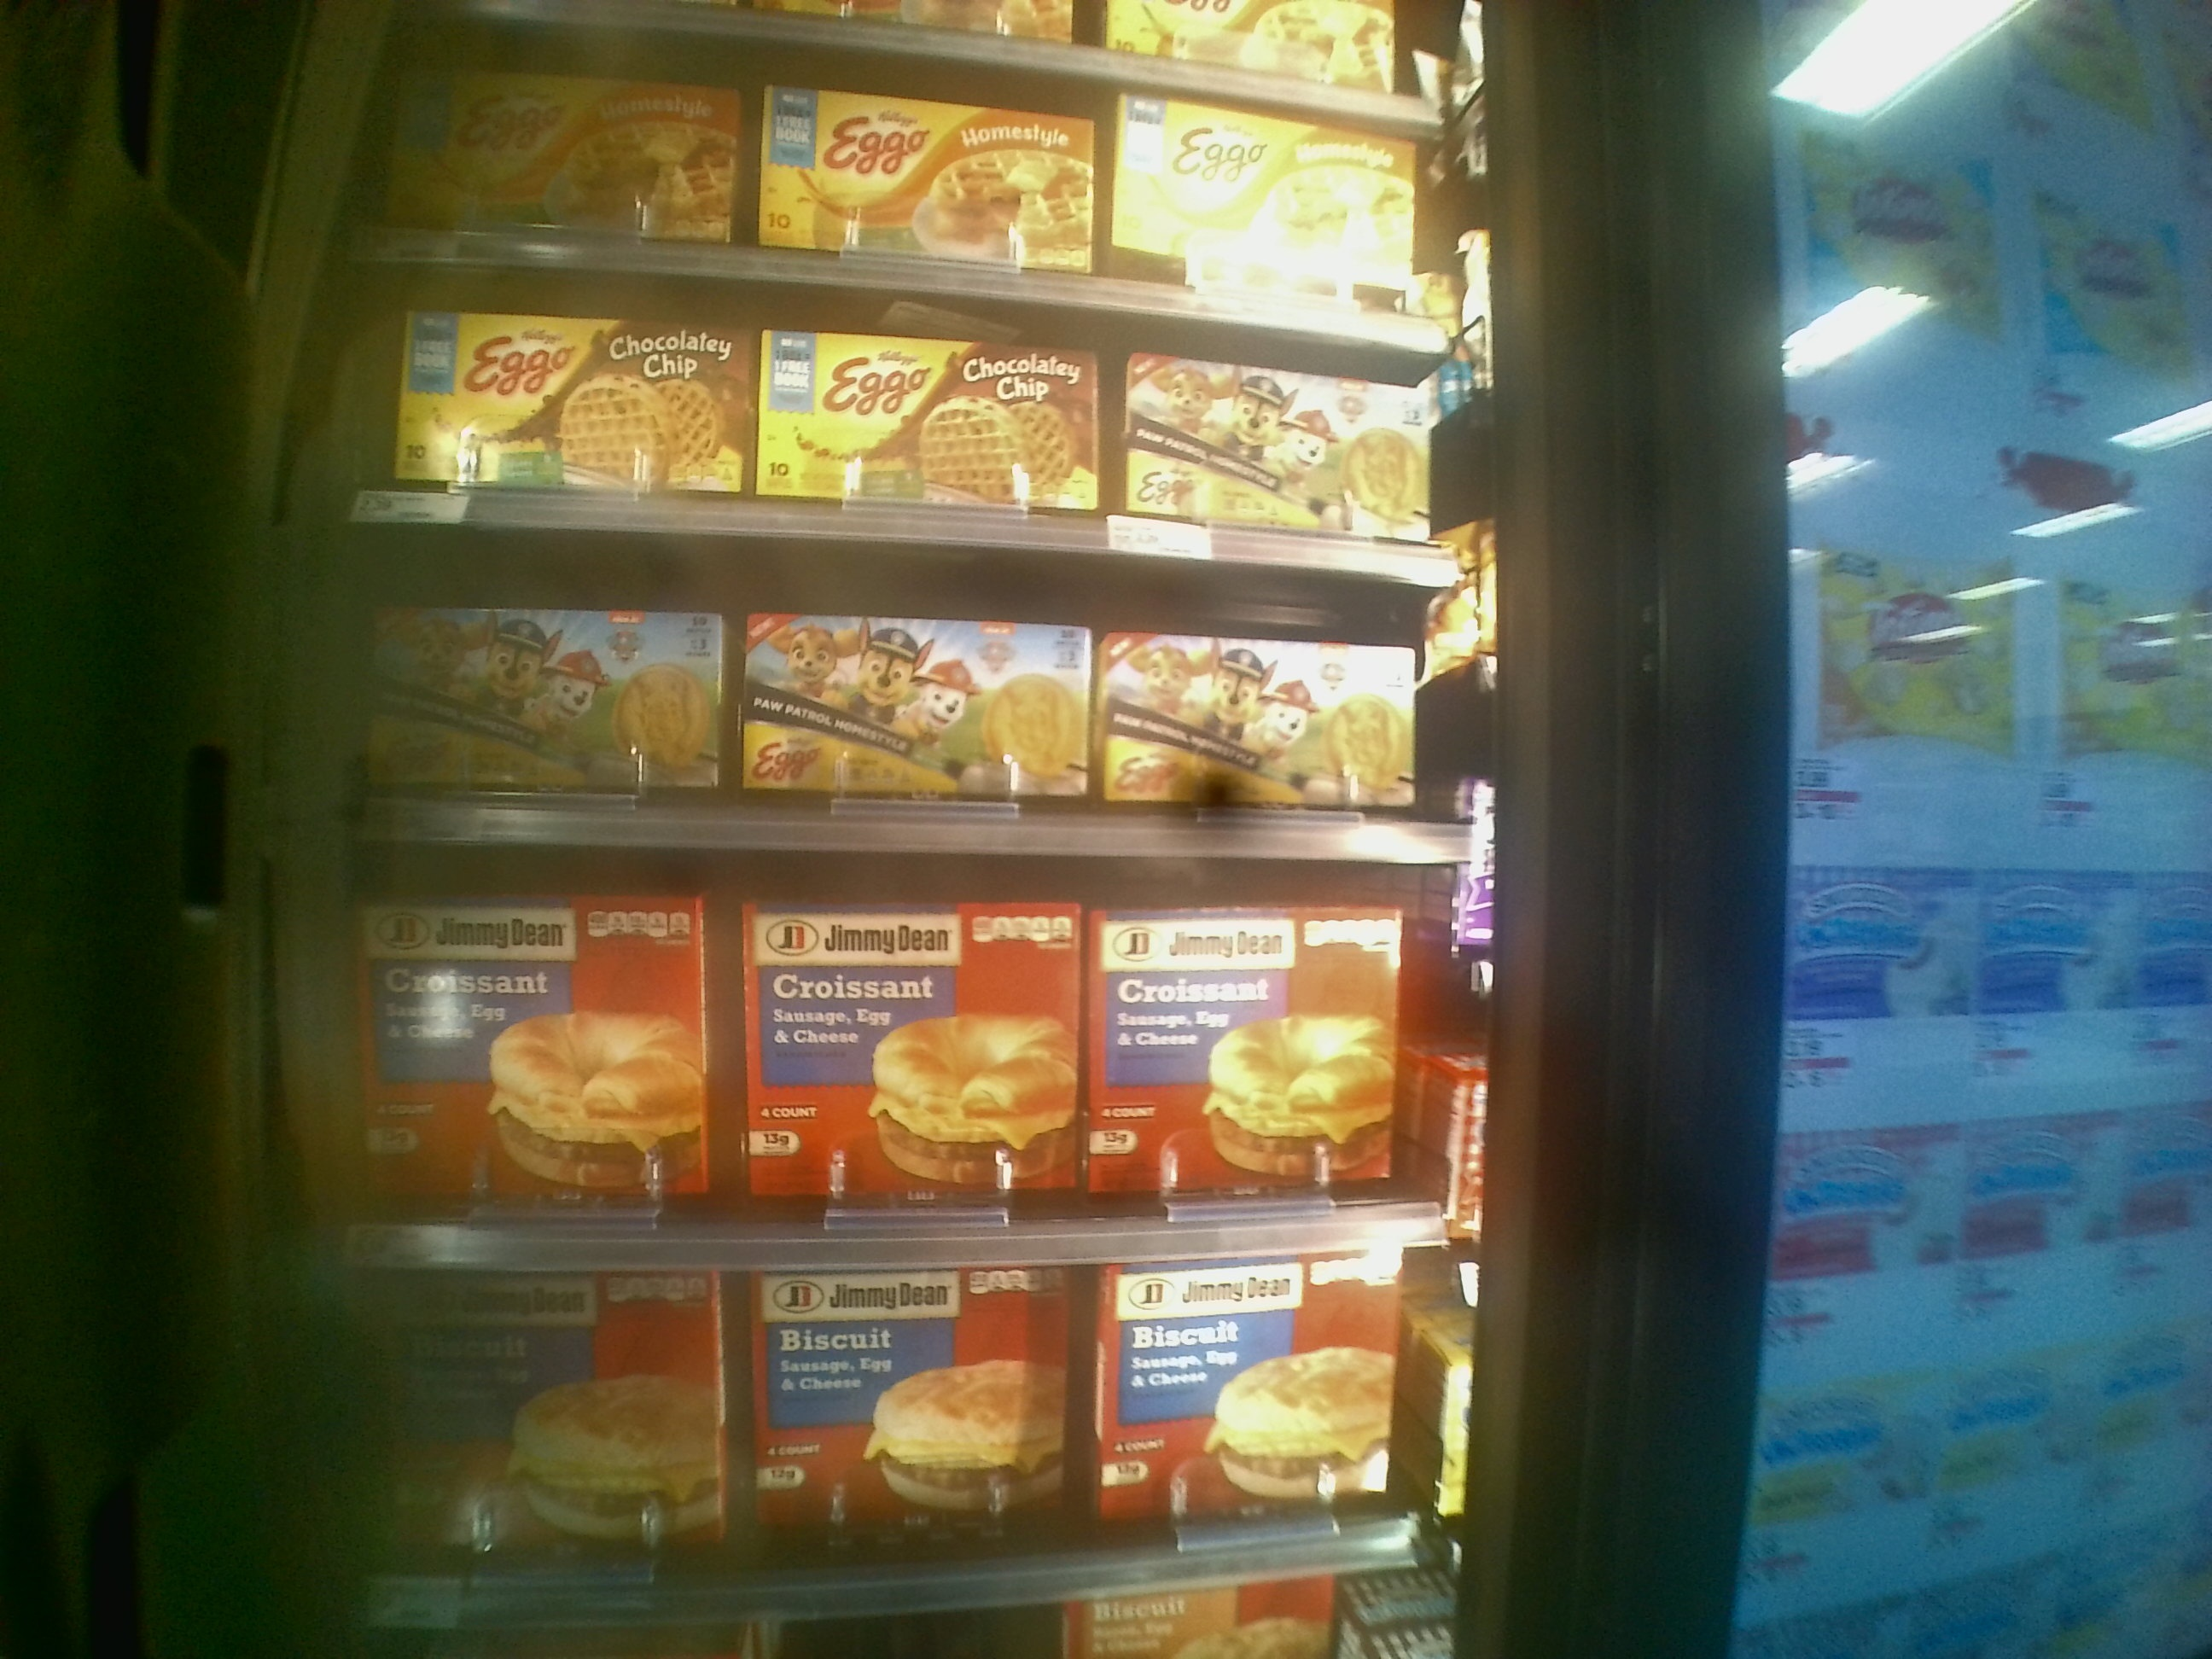shelf: (341, 842, 1463, 1258)
